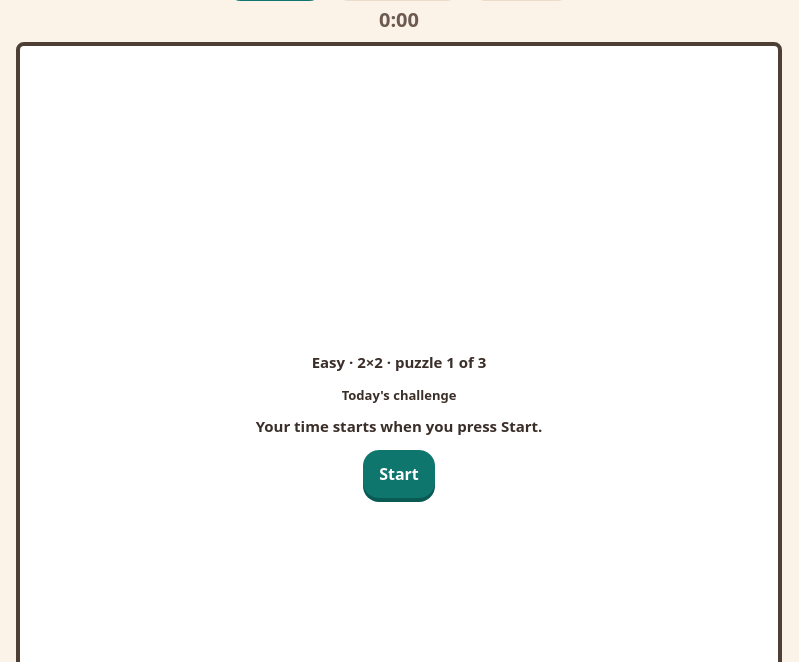
it: the finish (rules 15-16) › says it is saving, and while a save fails offers Try again in place of Practice
Click the button "Start" at (399, 474), box x1=363 y1=450 x2=435 y2=498
(page scrolled)
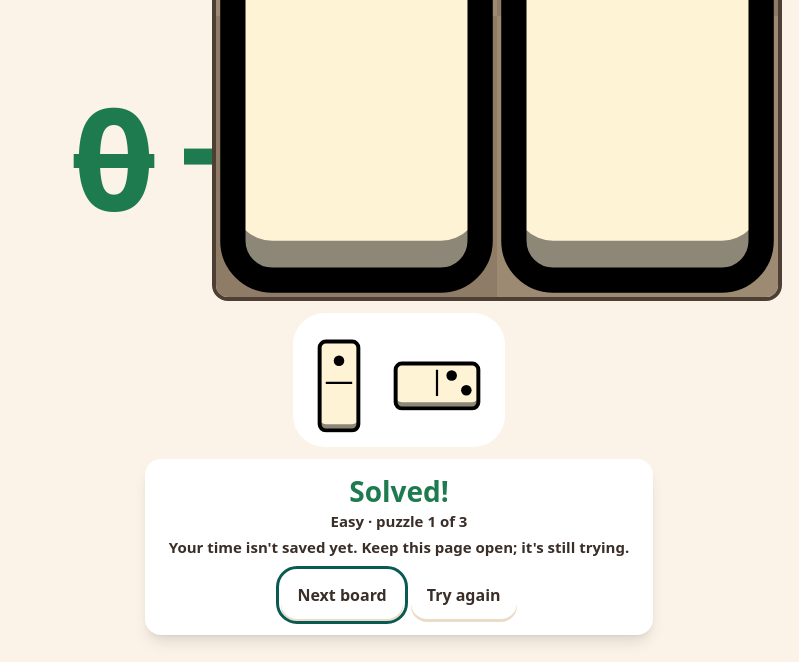
Now the message shows "Your time isn't saved yet. Keep this page open; it's still trying.", box x1=169 y1=537 x2=629 y2=557
Now the button "Try again" is shown, box x1=411 y1=571 x2=516 y2=619
